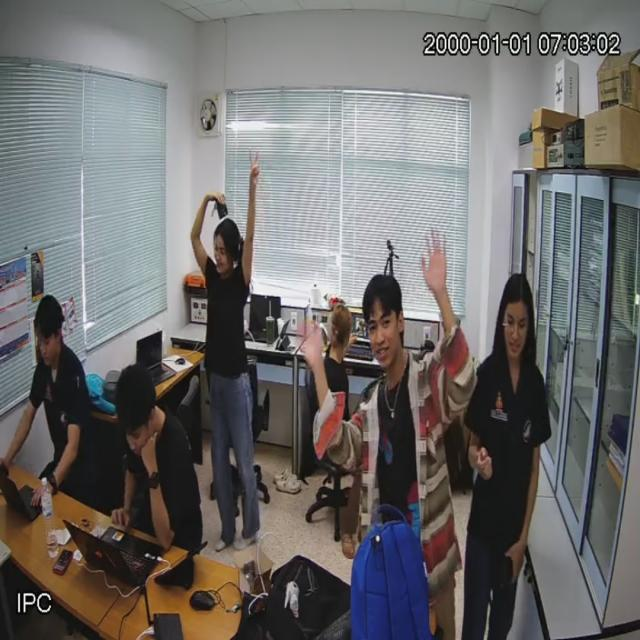normal: (333, 265, 461, 638), (466, 265, 553, 640), (197, 197, 258, 555), (112, 357, 194, 562), (27, 282, 95, 524)
